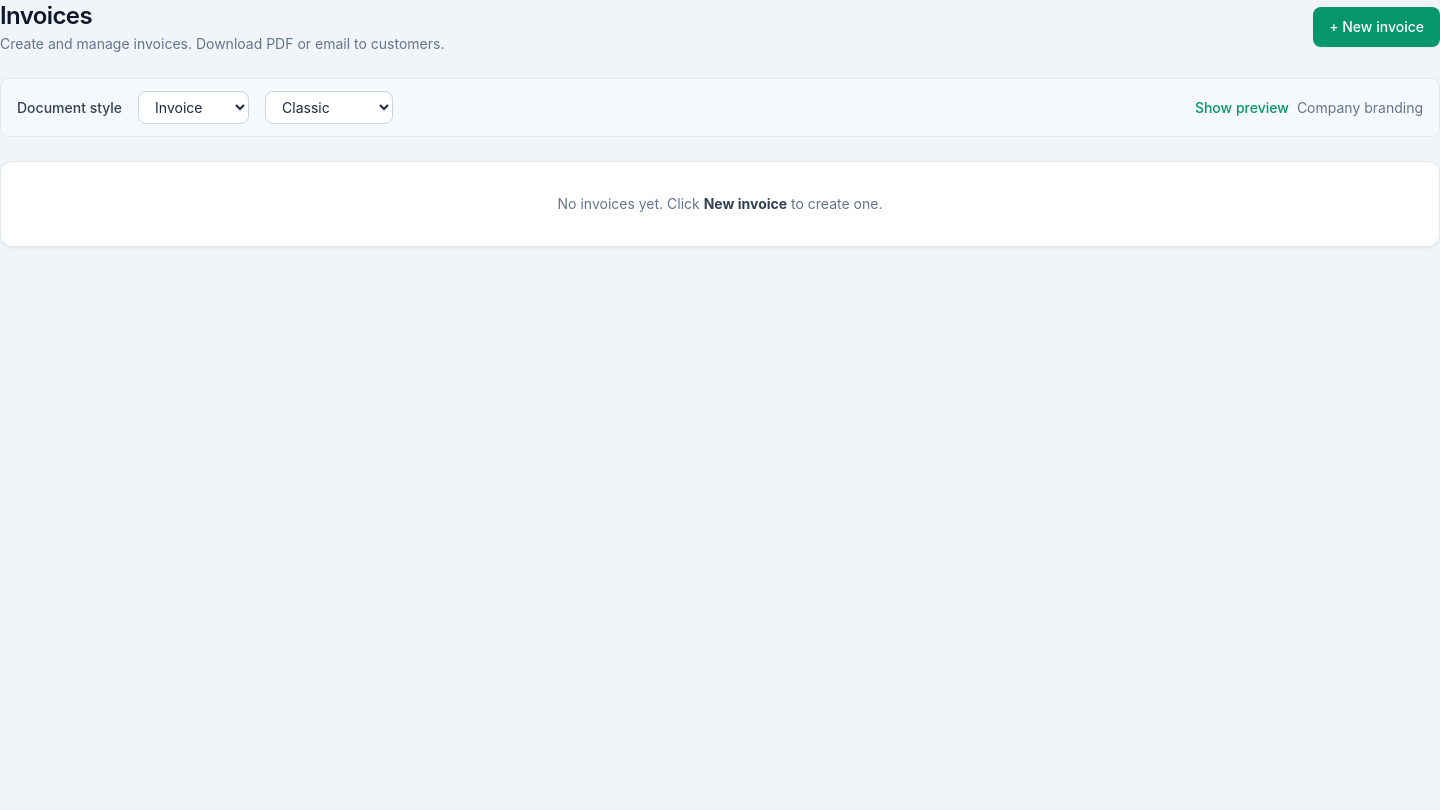
Test: InvoicesPage › opens new invoice form when clicking New invoice button
Expected: the text "No invoices yet. Click New invoice to create one." is shown, 558,195 -> 882,212
What coordinates should you click on to do the following:
click the button "+ New invoice"
I would click on:
 (1377, 27)
Its box is 1313,7 -> 1439,47.
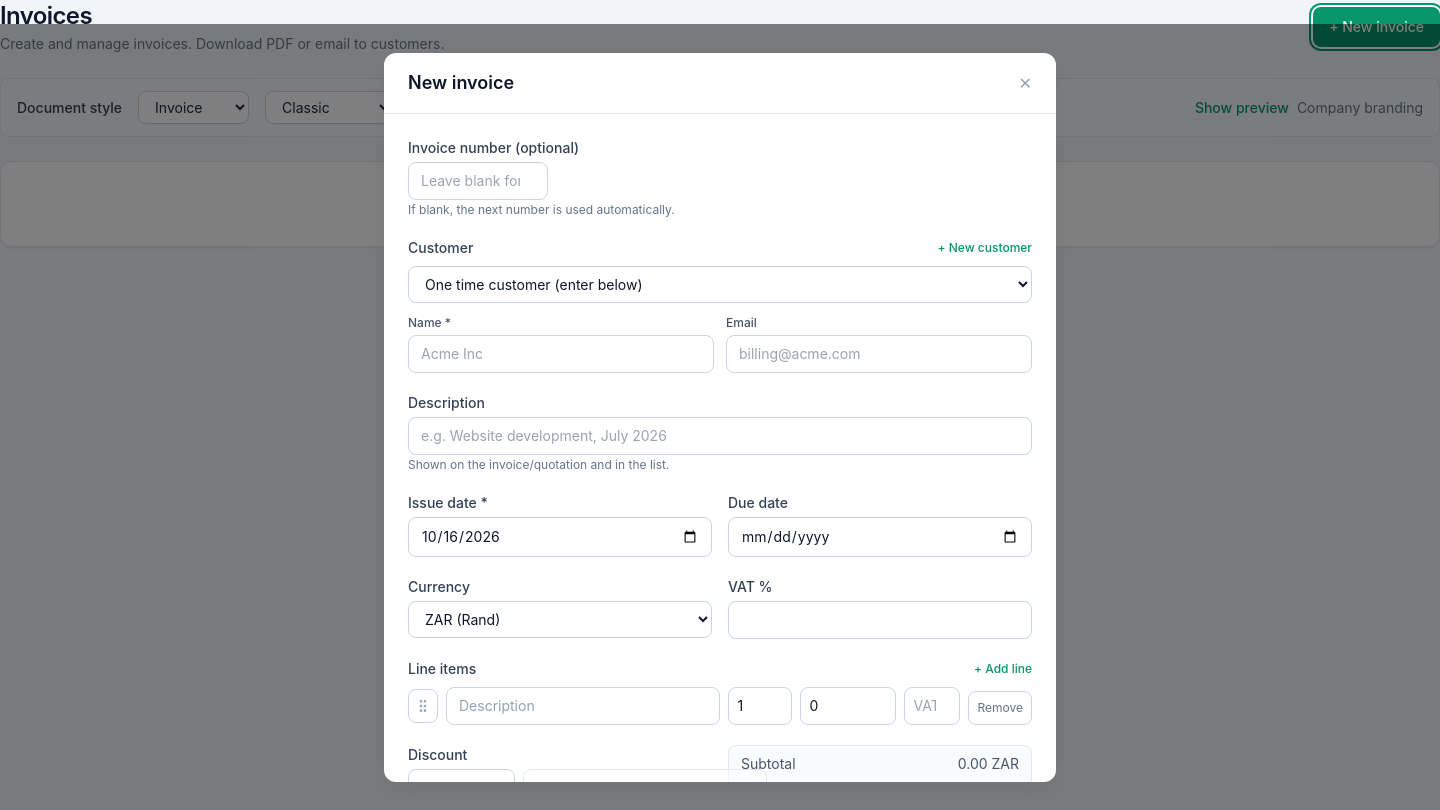
Result: the field with placeholder "Acme Inc" is shown at 408,334 -> 714,372
Result: the text "Invoice number (optional)" is shown at 408,138 -> 579,156
